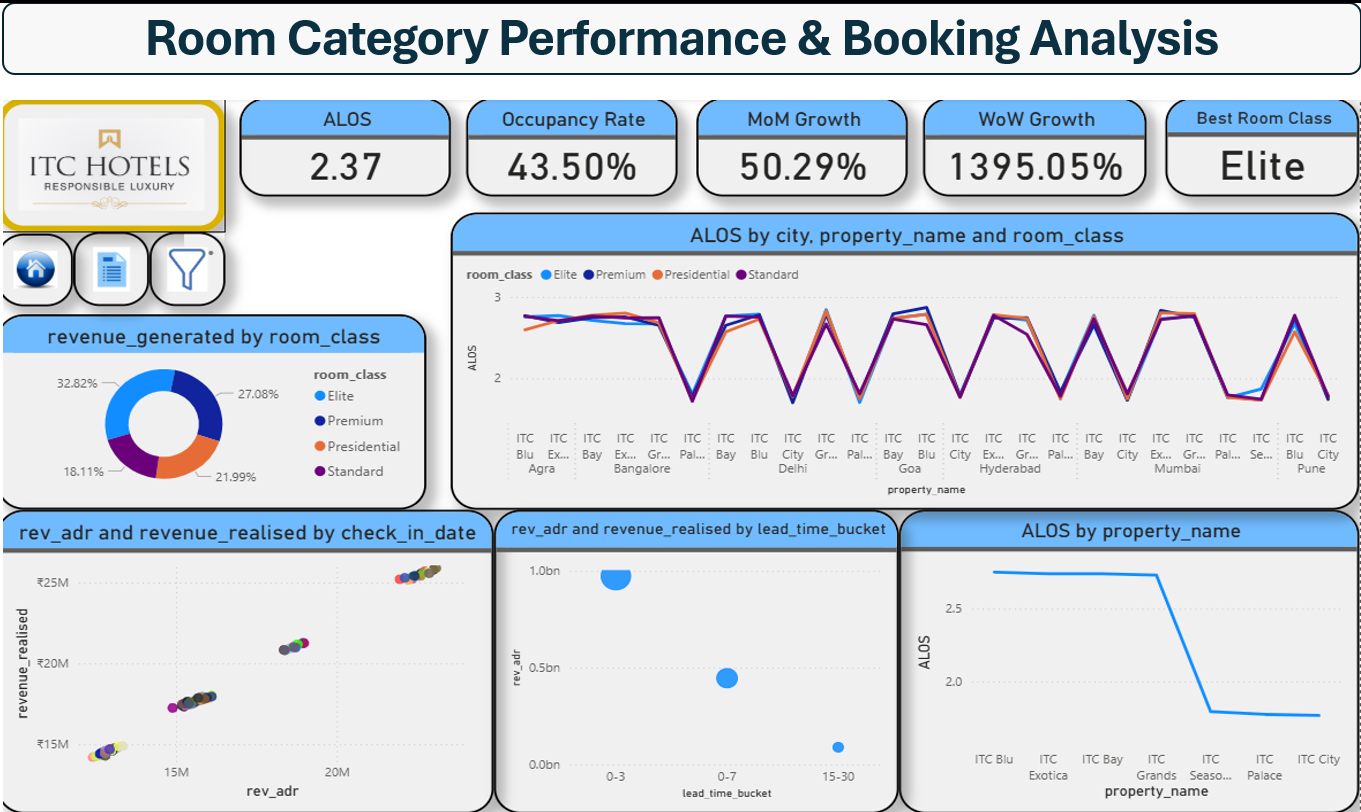

The dashboard page shown, as its layout file describes it:
{"tool":"powerbi","page":{"name":"Room_booking","canvas":[1280,720],"ordinal":7},"visuals":[{"type":"card","title":"ALOS","fields":{"Values":["all_measures.ALOS"]},"box":[227.7,0,198.4,99.2],"z":0},{"type":"shape","title":"Page Navigation ","box":[935.3,115.5,342.2,474.4],"z":0,"group":"g1"},{"type":"card","title":"MoM Growth","fields":{"Values":["all_measures.MoMgrowth"]},"box":[657.1,0,198.4,99.2],"z":1000},{"type":"actionButton","box":[1201.9,516.4,43.2,38.3],"z":1000,"group":"g1"},{"type":"card","title":"WoW Growth","fields":{"Values":["all_measures.WoW growth"]},"box":[870.2,0,209.8,99.2],"z":2000},{"type":"image","title":"Financial Analysis","box":[975.3,208.6,119,126],"z":2000,"group":"g1"},{"type":"image","box":[0,0,214.7,135],"z":3000},{"type":"image","title":"Occupancy Analysis","box":[1119.1,208.6,119,126],"z":3000,"group":"g1"},{"type":"image","box":[0,136.6,71.6,73.2],"z":4000},{"type":"image","title":"Bookings Analysis","box":[975.3,369.6,119,126],"z":4000,"group":"g1"},{"type":"image","box":[143.1,135,71.6,74.8],"z":5000},{"type":"image","title":"Cancellation Analysis","box":[1119.1,369.6,119,126],"z":5000,"group":"g1"},{"type":"donutChart","fields":{"Category":["rooms.room_class"],"Y":["all_measures.revenue_generated"]},"box":[0,218,403.4,196.8],"z":6000},{"type":"lineChart","fields":{"Category":["hotels.property_name"],"Y":["all_measures.ALOS"]},"box":[847.4,414.8,432.7,305.8],"z":7000},{"type":"lineChart","fields":{"Category":["hotels.city","hotels.property_name"],"Y":["all_measures.ALOS"],"Series":["rooms.room_class"]},"box":[426.2,115.5,853.9,299.3],"z":8000},{"type":"scatterChart","fields":{"Category":["bookings.check_in_date"],"X":["all_measures.rev_adr"],"Y":["all_measures.revenue_realised"]},"box":[0,414.8,466.8,305.8],"z":9000},{"type":"scatterChart","fields":{"Y":["all_measures.rev_adr"],"Size":["all_measures.revenue_realised"],"X":["bookings.lead_time_bucket"]},"box":[466.8,414.8,380.6,305.8],"z":10000},{"type":"card","title":"Occupancy Rate","fields":{"Values":["all_measures.occupancy_rate"]},"box":[440.8,0,198.4,99.2],"z":11000},{"type":"card","title":"Best Room Class","fields":{"Values":["all_measures.top_room_class"]},"box":[1097.9,0,182.2,99.2],"z":12000},{"type":"image","box":[71.6,135,71.6,74.8],"z":14000},{"type":"group","id":"g1","title":"Group 2","box":[935.3,115.5,344.8,475],"z":15000}]}

Visuals, with their boxes on the page's 1280x720 design canvas (x1, y1, x2, y2). These are canvas units, not pixel positions in the 1361x812 screenshot, which may show the page scaled, cropped or inside an application window:
"ALOS" card: pyautogui.locateOnScreen(228, 0, 426, 99)
"Page Navigation " shape: pyautogui.locateOnScreen(935, 116, 1278, 590)
"MoM Growth" card: pyautogui.locateOnScreen(657, 0, 856, 99)
actionButton: pyautogui.locateOnScreen(1202, 516, 1245, 555)
"WoW Growth" card: pyautogui.locateOnScreen(870, 0, 1080, 99)
"Financial Analysis" image: pyautogui.locateOnScreen(975, 209, 1094, 335)
image: pyautogui.locateOnScreen(0, 0, 215, 135)
"Occupancy Analysis" image: pyautogui.locateOnScreen(1119, 209, 1238, 335)
image: pyautogui.locateOnScreen(0, 137, 72, 210)
"Bookings Analysis" image: pyautogui.locateOnScreen(975, 370, 1094, 496)
image: pyautogui.locateOnScreen(143, 135, 215, 210)
"Cancellation Analysis" image: pyautogui.locateOnScreen(1119, 370, 1238, 496)
donutChart - rooms.room_class x all_measures.revenue_generated: pyautogui.locateOnScreen(0, 218, 403, 415)
lineChart - hotels.property_name x all_measures.ALOS: pyautogui.locateOnScreen(847, 415, 1280, 721)
lineChart - hotels.city x hotels.property_name: pyautogui.locateOnScreen(426, 116, 1280, 415)
scatterChart - bookings.check_in_date x all_measures.rev_adr: pyautogui.locateOnScreen(0, 415, 467, 721)
scatterChart - all_measures.rev_adr x all_measures.revenue_realised: pyautogui.locateOnScreen(467, 415, 847, 721)
"Occupancy Rate" card: pyautogui.locateOnScreen(441, 0, 639, 99)
"Best Room Class" card: pyautogui.locateOnScreen(1098, 0, 1280, 99)
image: pyautogui.locateOnScreen(72, 135, 143, 210)
"Group 2" group: pyautogui.locateOnScreen(935, 116, 1280, 590)
